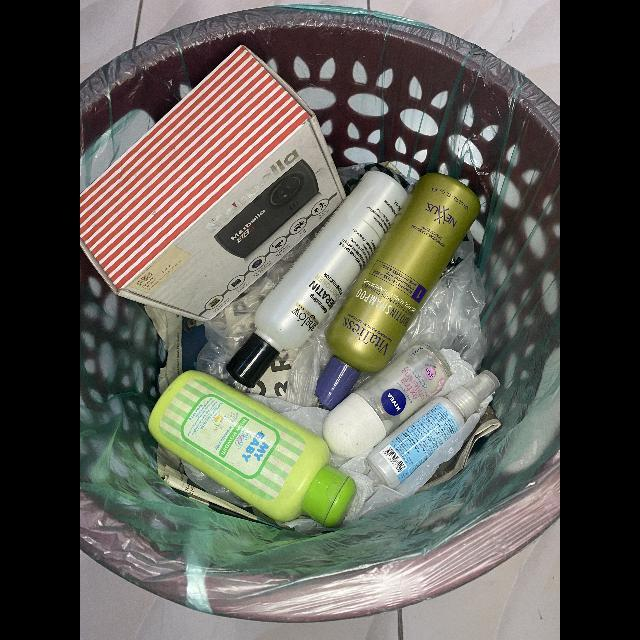glass: (322, 342, 453, 458)
paper: (80, 46, 347, 323)
plastic: (226, 170, 411, 390), (315, 173, 481, 411), (147, 370, 356, 528), (365, 370, 500, 489), (394, 231, 487, 372)
